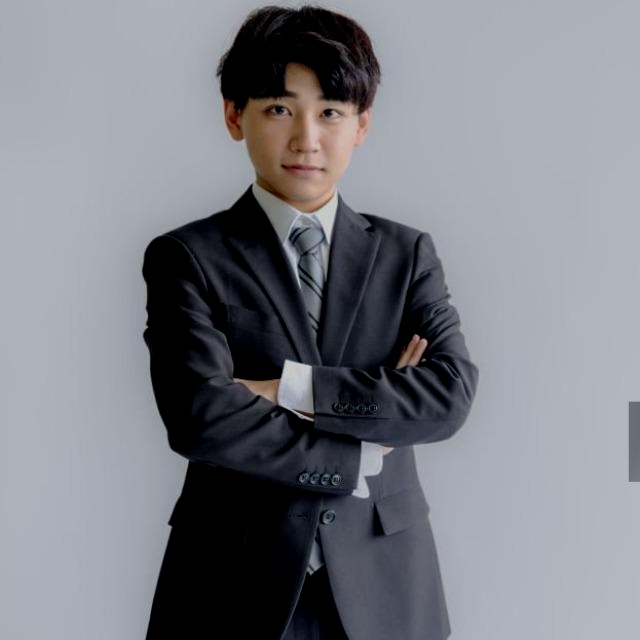Sin_Casco_Mascarrilla: (217, 4, 383, 203)
Sin_Chaleco: (149, 203, 437, 558)
